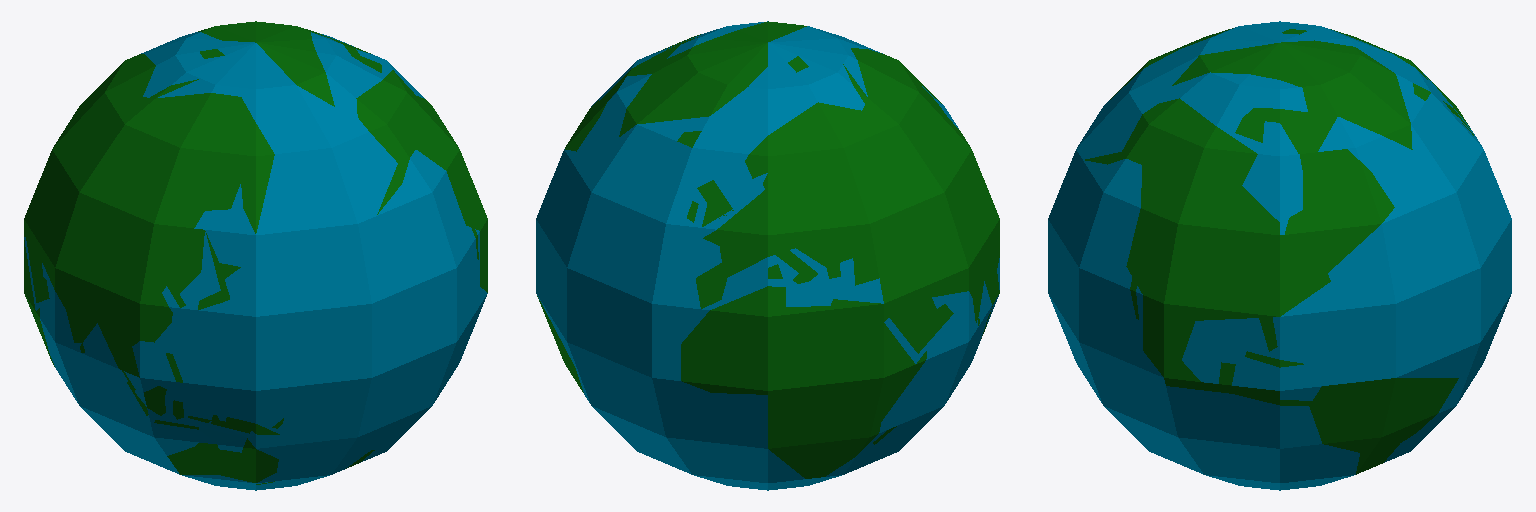
Rendered from earth_model.obj.
3 views of the same model, side by side, from view 1: azimuth 30°, elevation 25°; view 2: azimuth 150°, elevation 25°; view 3: azimuth 270°, elevation 25° (orthographic).
Visible parts, largest first — view 1: group[number redacted]; view 2: group[number redacted]; view 3: group[number redacted].
Boxes of the visible parts, x1,y1,x2,y2 form: group[number redacted]: [24, 21, 487, 490]; group[number redacted]: [536, 21, 999, 490]; group[number redacted]: [1048, 21, 1511, 490].
Bounding box in the file's own units: 1.37 × 1.39 × 1.37.